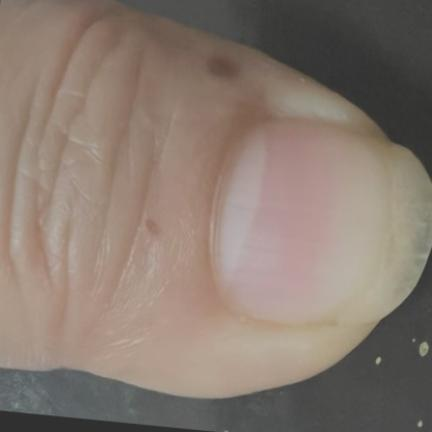Nail: (214, 122, 431, 324)
